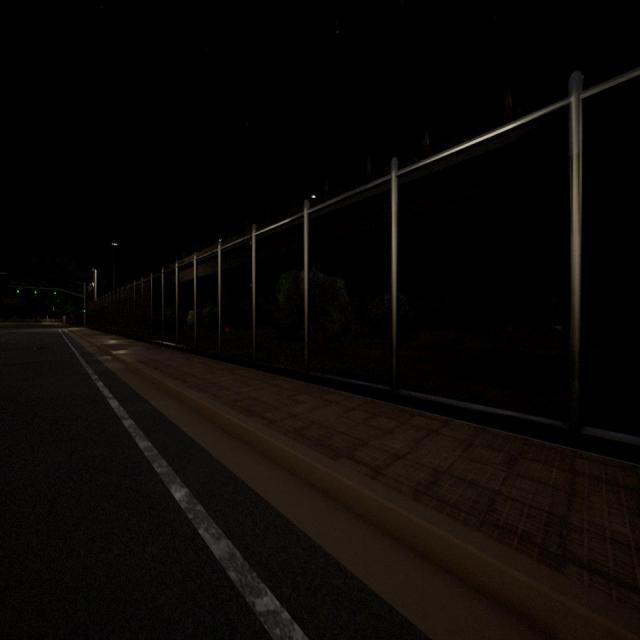traffic_light: (17, 289, 20, 294), (34, 290, 37, 294), (84, 307, 85, 313), (54, 292, 56, 294)
